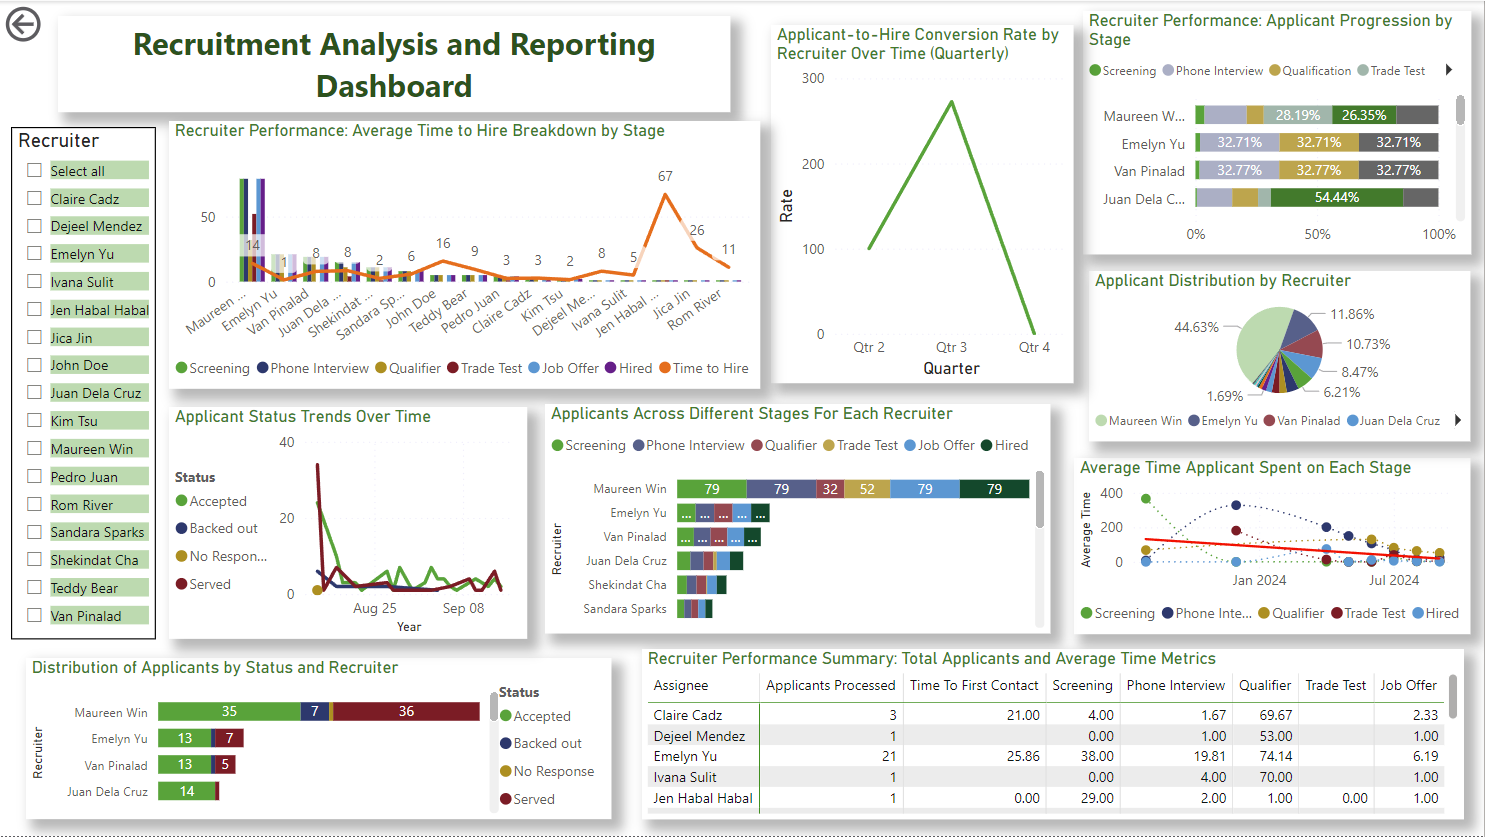

The page's visual inventory and layout, read from the dashboard file:
{"tool":"powerbi","page":{"name":"Page 1","canvas":[1280,720],"ordinal":0},"visuals":[{"type":"barChart","title":"Distribution of Applicants by Status and Recruiter","fields":{"Category":["Candidates(Cleaned).Assignee"],"Y":["Candidates(Cleaned).ApplicantCount"],"Series":["Candidates(Cleaned).Status"]},"box":[22.4,567.1,504.8,139.1],"z":0},{"type":"lineChart","title":"Average Time Applicant Spent on Each Stage","fields":{"Y":["Candidates(Cleaned).AverageScreening_TimeSpent","Candidates(Cleaned).AveragePhoneInterview_TimeSpent","Candidates(Cleaned).AverageQualifier_TimeSpent","Candidates(Cleaned).AverageTradeTest_TimeSpent","Candidates(Cleaned).AverageJobOffer_TimeSpent"],"Category":["Candidates(Cleaned).Screening Date.Variation.Date Hierarchy.Year","Candidates(Cleaned).Screening Date.Variation.Date Hierarchy.Month"]},"box":[926,393.9,342.4,151.7],"z":1000},{"type":"textbox","box":[49.6,12.6,579.7,82.7],"z":2000},{"type":"slicer","title":"Recruiter","fields":{"Values":["Candidates(Cleaned).Assignee"]},"box":[9.7,108.9,125.5,441.6],"z":3000},{"type":"hundredPercentStackedBarChart","title":"Recruiter Performance: Applicant Progression by Stage","fields":{"Category":["Candidates(Cleaned).Assignee"],"Y":["Candidates(Cleaned).ScreeningProgressionRate","Candidates(Cleaned).PhoneInterviewProgressionRate","Candidates(Cleaned).QualificationProgressionRate","Candidates(Cleaned).TradeTestProgressionRate","Candidates(Cleaned).JobOfferProgressionRate","Candidates(Cleaned).HiredProgressionRate"]},"box":[933.7,8.8,334.6,210.1],"z":4000},{"type":"pieChart","title":"Applicant Distribution by Recruiter","fields":{"Category":["Candidates(Cleaned).Assignee"],"Y":["CountNonNull(Candidates(Cleaned).Created)"]},"box":[939.6,232.5,328.8,146.9],"z":5000},{"type":"actionButton","box":[0,0,100,40],"z":6000},{"type":"lineChart","title":"Applicant-to-Hire Conversion Rate by Recruiter Over Time (Quarterly)","fields":{"Y":["Candidates(Cleaned).Applicant2Hire_Rate"],"Category":["Candidates(Cleaned).Expected Start Date.Variation.Date Hierarchy.Quarter"]},"box":[665.3,20.4,260.7,309.3],"z":7000},{"type":"lineClusteredColumnComboChart","title":"Recruiter Performance: Average Time to Hire Breakdown by Stage","fields":{"Category":["Candidates(Cleaned).Assignee"],"Y":["Candidates(Cleaned).ScreeningDate_Total","Candidates(Cleaned).PhoneDate_Total","Candidates(Cleaned).QualifierDate_Total","Candidates(Cleaned).TradeTestDate_Total","Candidates(Cleaned).JobOfferDate_Total","CountNonNull(Candidates(Cleaned).Expected Start Date)"],"Y2":["Candidates(Cleaned).AvgTotalTimeToHire"]},"box":[145.9,103.1,509.7,230.5],"z":8000},{"type":"lineChart","title":"Applicant Status Trends Over Time","fields":{"Y":["Candidates(Cleaned).ApplicantCount"],"Series":["Candidates(Cleaned).Status"],"Category":["Candidates(Cleaned).Created.Variation.Date Hierarchy.Year","Candidates(Cleaned).Created.Variation.Date Hierarchy.Quarter","Candidates(Cleaned).Created.Variation.Date Hierarchy.Month","Candidates(Cleaned).Created.Variation.Date Hierarchy.Day"]},"box":[145.9,350.2,309.3,200.4],"z":9000},{"type":"barChart","title":"Applicants Across Different Stages For Each Recruiter","fields":{"Category":["Candidates(Cleaned).Assignee"],"Y":["Candidates(Cleaned).ScreeningDate_Total","Candidates(Cleaned).PhoneDate_Total","Candidates(Cleaned).QualifierDate_Total","Candidates(Cleaned).TradeTestDate_Total","Candidates(Cleaned).JobOfferDate_Total","CountNonNull(Candidates(Cleaned).Expected Start Date)"]},"box":[469.8,347.2,435.7,198.4],"z":10000},{"type":"pivotTable","title":"Recruiter Performance Summary: Total Applicants and Average Time Metrics","fields":{"Rows":["Candidates(Cleaned).Assignee"],"Values":["Candidates(Cleaned).ApplicantCount","Candidates(Cleaned).AvgTimeToFirstContact","Candidates(Cleaned).AverageScreening_TimeSpent","Candidates(Cleaned).AveragePhoneInterview_TimeSpent","Candidates(Cleaned).AverageQualifier_TimeSpent","Candidates(Cleaned).AverageTradeTest_TimeSpent","Candidates(Cleaned).AverageJobOffer_TimeSpent"]},"box":[553.4,559.3,709.1,146.9],"z":11000}]}

Visuals, with their boxes in screenshot pixels (x1, y1, x2, y2), scaled from the page's 1280x720 canvas onto the 1485x837 screenshot:
"Distribution of Applicants by Status and Recruiter" barChart: 26, 659, 612, 821
"Average Time Applicant Spent on Each Stage" lineChart: 1074, 458, 1472, 634
textbox: 58, 15, 730, 111
"Recruiter" slicer: 11, 127, 157, 640
"Recruiter Performance: Applicant Progression by Stage" hundredPercentStackedBarChart: 1083, 10, 1471, 254
"Applicant Distribution by Recruiter" pieChart: 1090, 270, 1472, 441
actionButton: 0, 0, 116, 46
"Applicant-to-Hire Conversion Rate by Recruiter Over Time (Quarterly)" lineChart: 772, 24, 1074, 383
"Recruiter Performance: Average Time to Hire Breakdown by Stage" lineClusteredColumnComboChart: 169, 120, 761, 388
"Applicant Status Trends Over Time" lineChart: 169, 407, 528, 640
"Applicants Across Different Stages For Each Recruiter" barChart: 545, 404, 1051, 634
"Recruiter Performance Summary: Total Applicants and Average Time Metrics" pivotTable: 642, 650, 1465, 821
